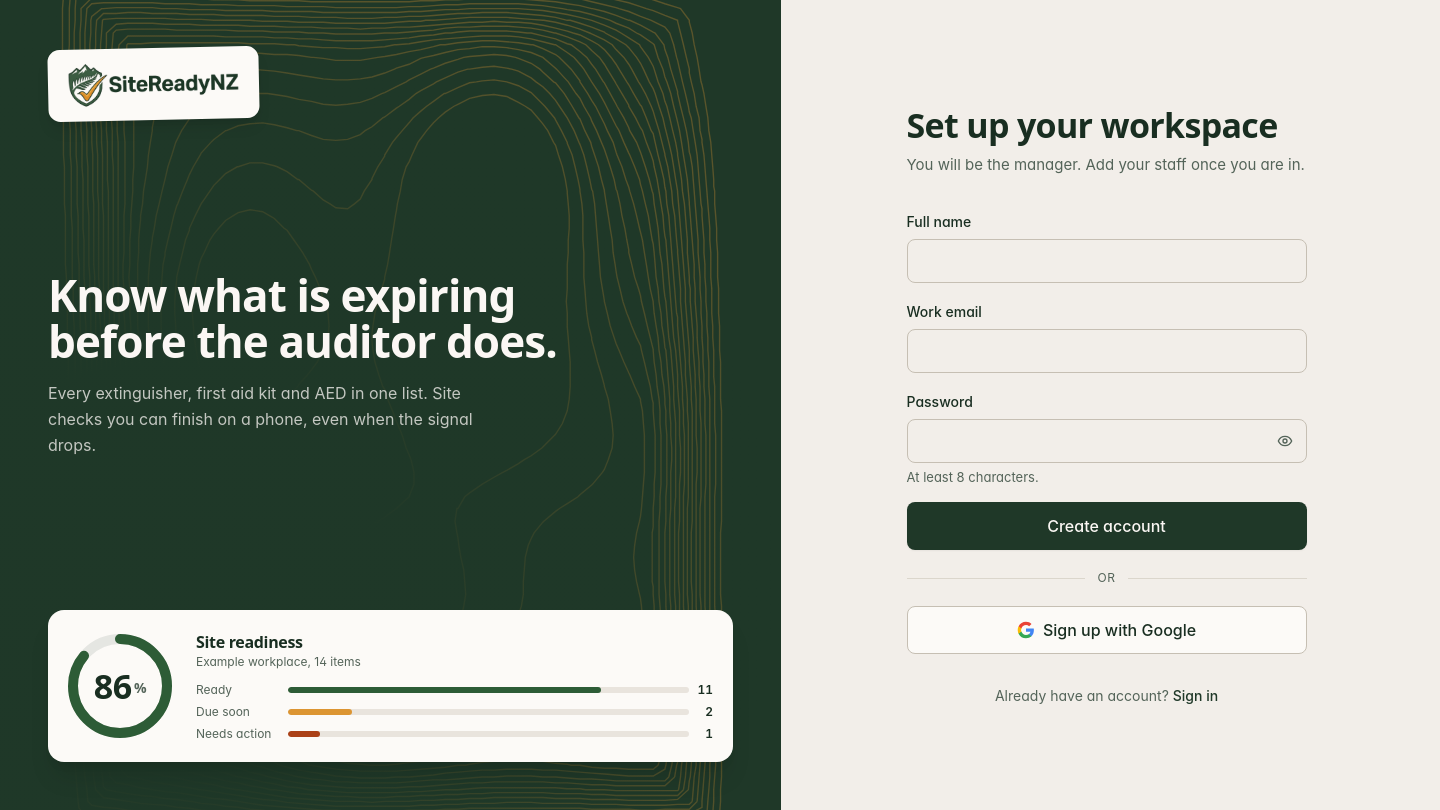
Scenario: Register page › rejects a 7-character password while typing, and accepts 8
The image size is (1440, 810).
Step 1. Type "1234567" into the password field labelled "Password" → (1106, 441), box x1=906 y1=419 x2=1306 y2=463
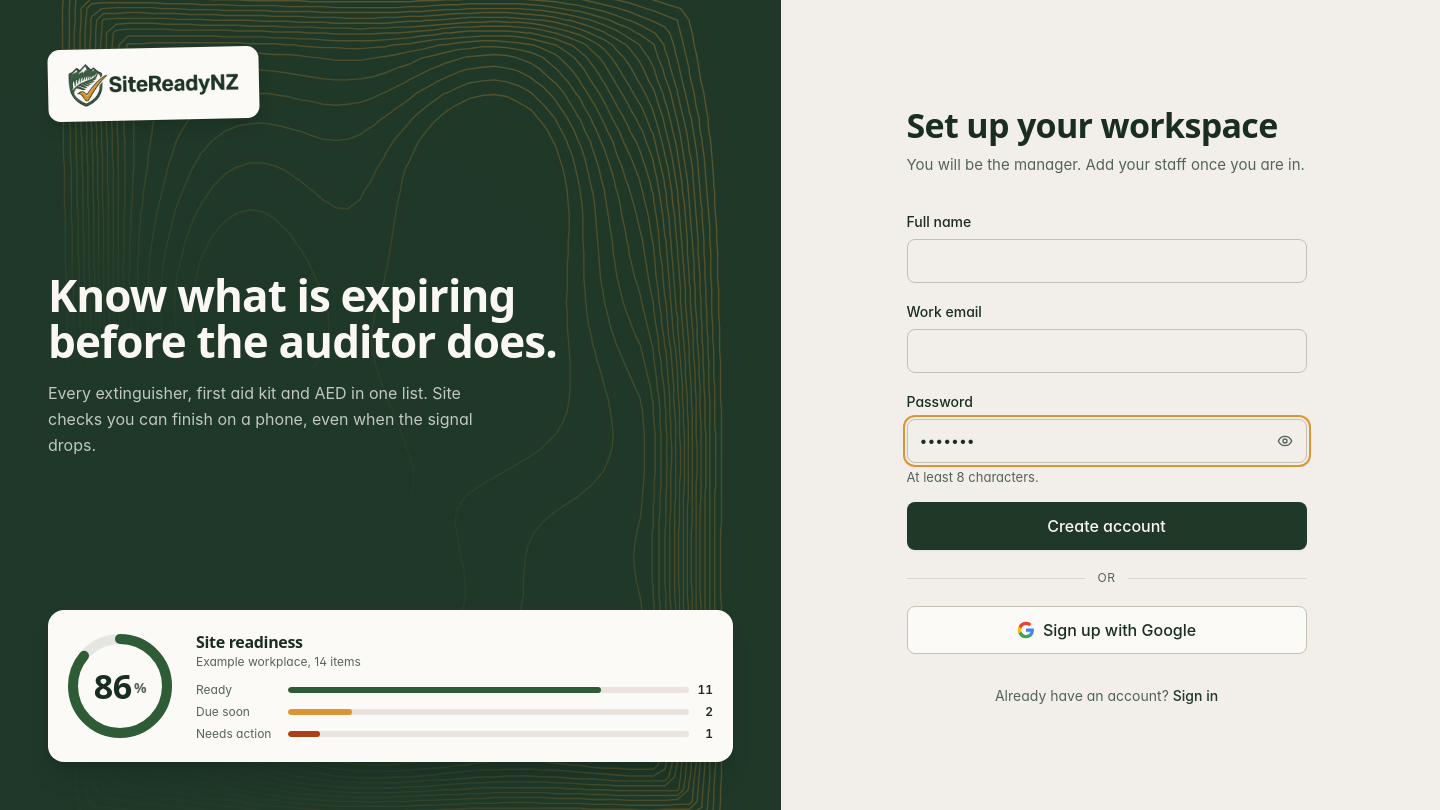
Step 2. Press Tab
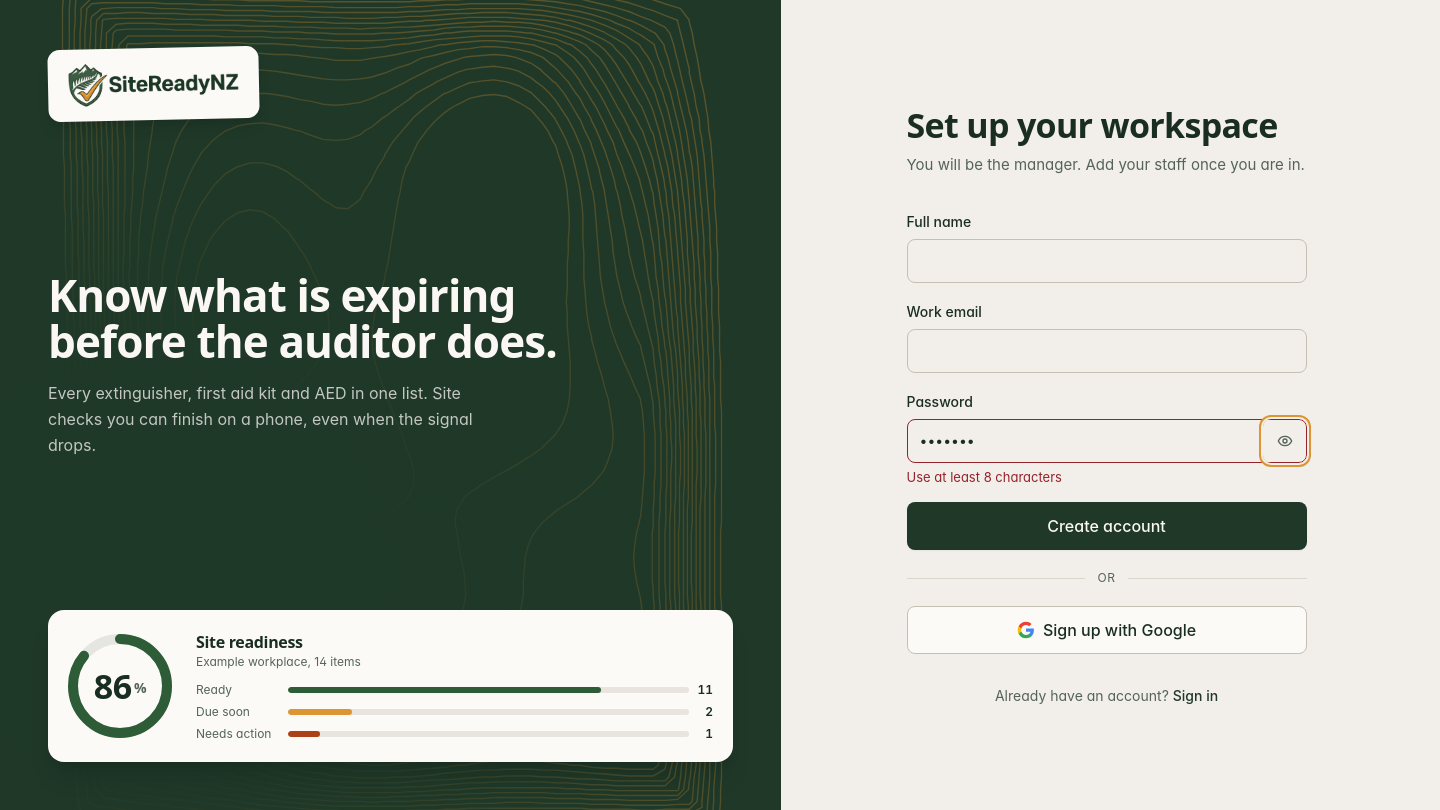
Now the text "Use at least 8 characters" is shown, box x1=906 y1=469 x2=1062 y2=485
Step 3. Type "8" into the password field labelled "Password" → (1106, 441), box x1=906 y1=419 x2=1306 y2=463
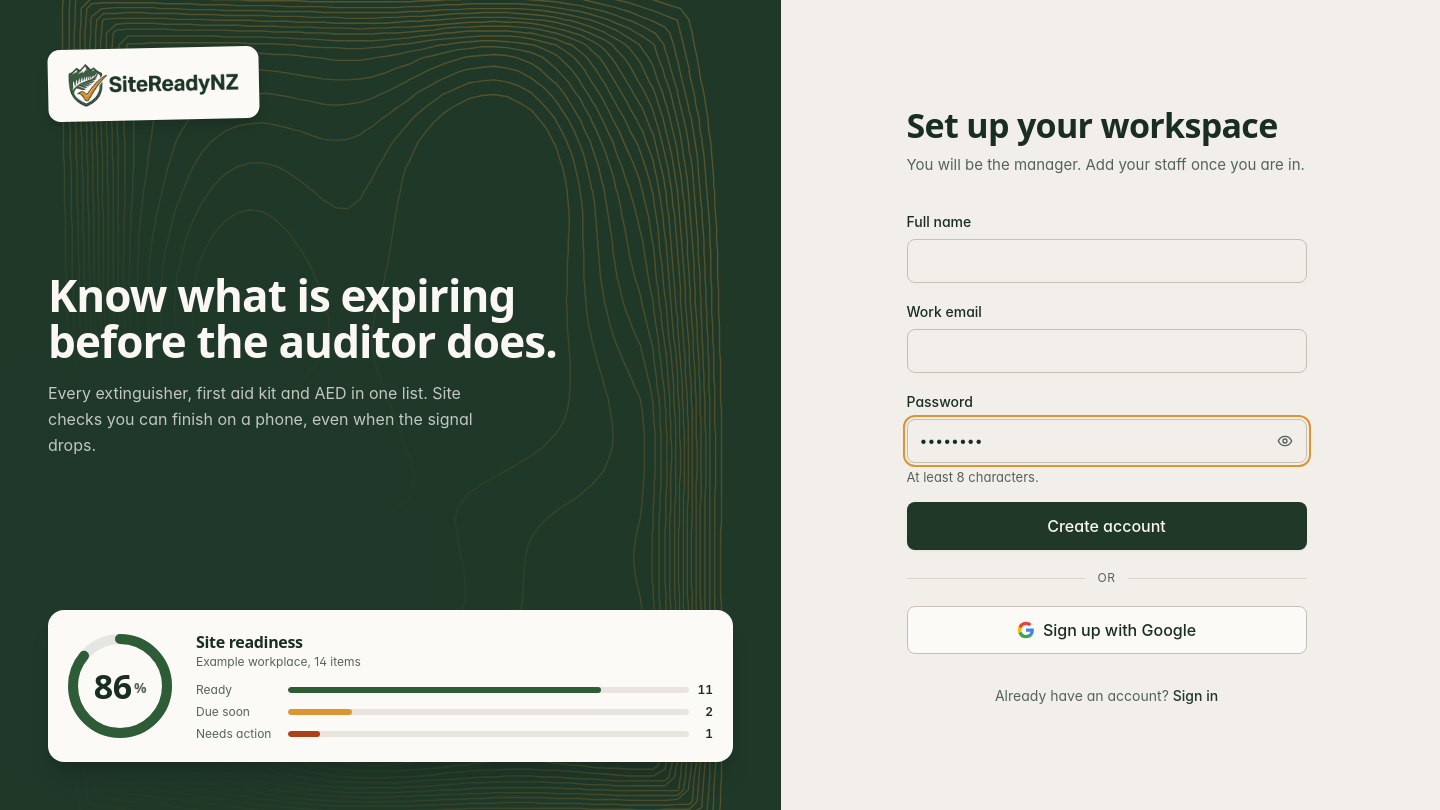
Now the text "Use at least 8 characters" is gone
